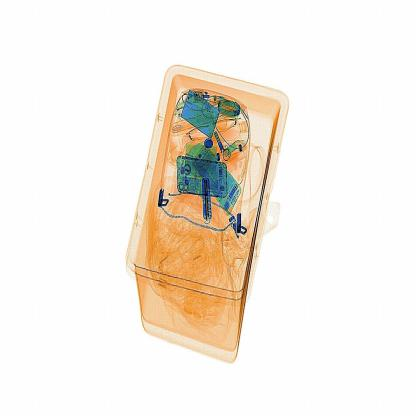scissors: (199, 175, 215, 226)
